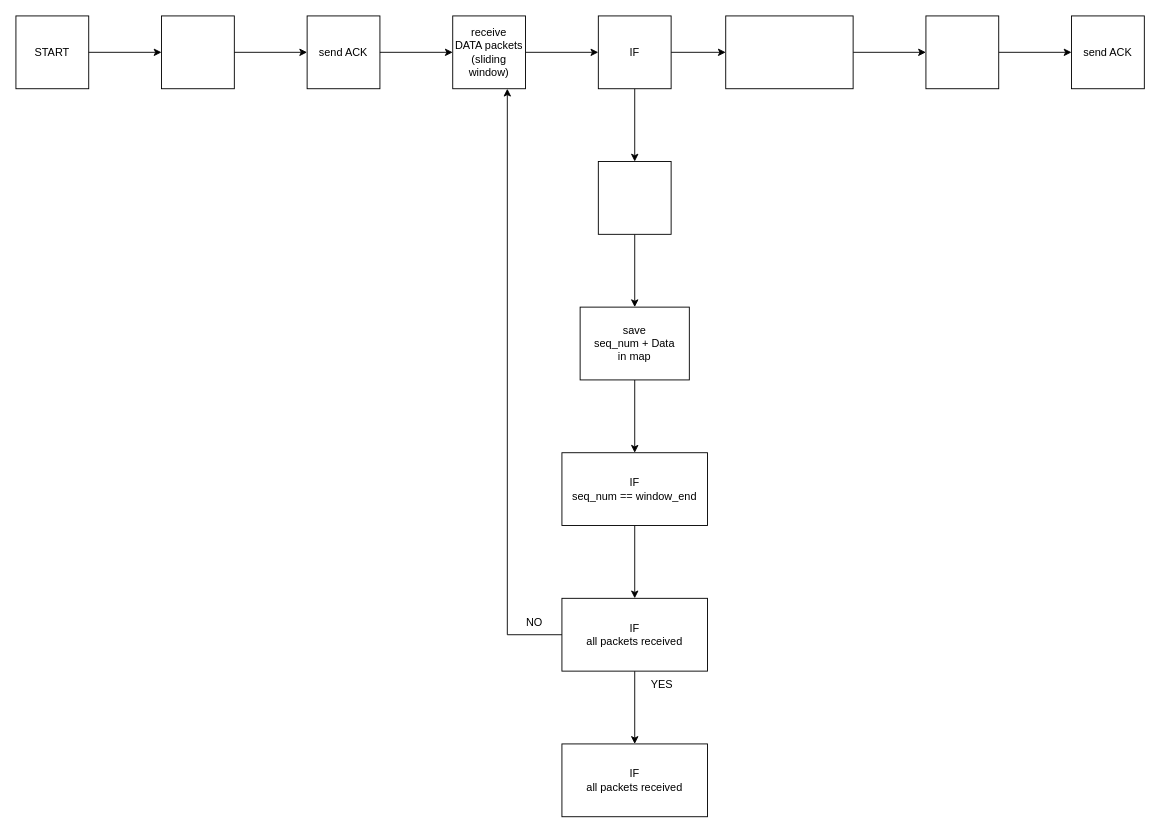
Image size: 1160x833. Some labels were removed from this diagram. The shapes that lost their labels are listed below. From the top down, each one's centre as x and y in pixels, then its label:
At point 197,52: "receive init packet".
At point 789,52: "seq_num == max_seq_num -1".
At point 962,52: "receive MD5 packet".
At point 634,197: "seq_num in window".
